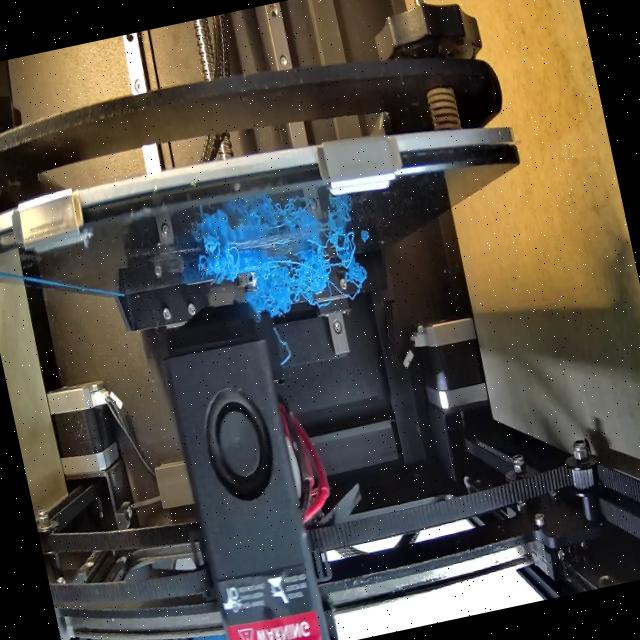spaghetti: (242, 226, 363, 312), (190, 228, 244, 290)
